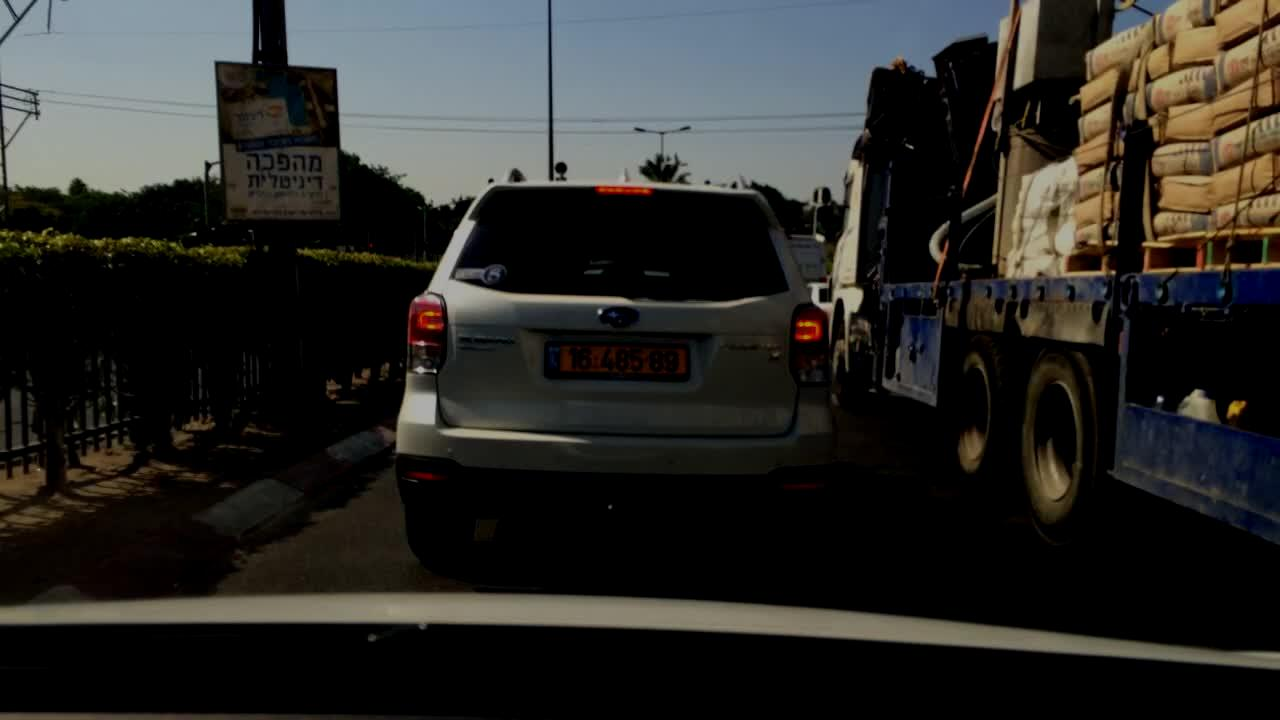subaru: (599, 301, 641, 329)
